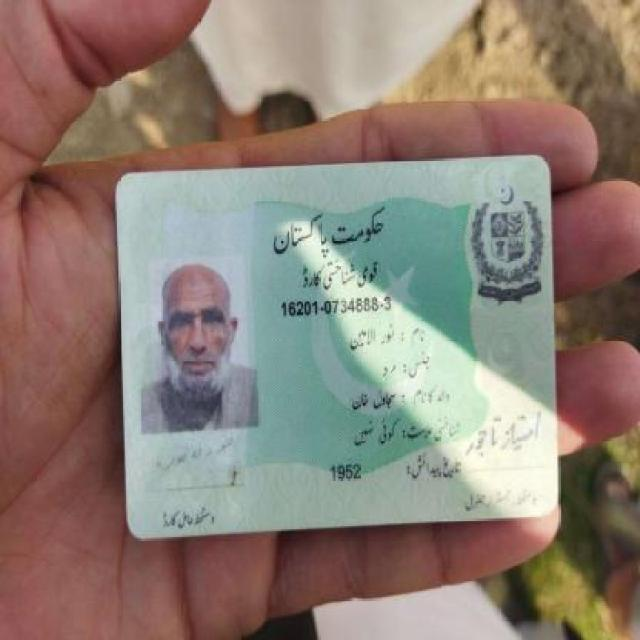Front: (105, 163, 566, 529)
